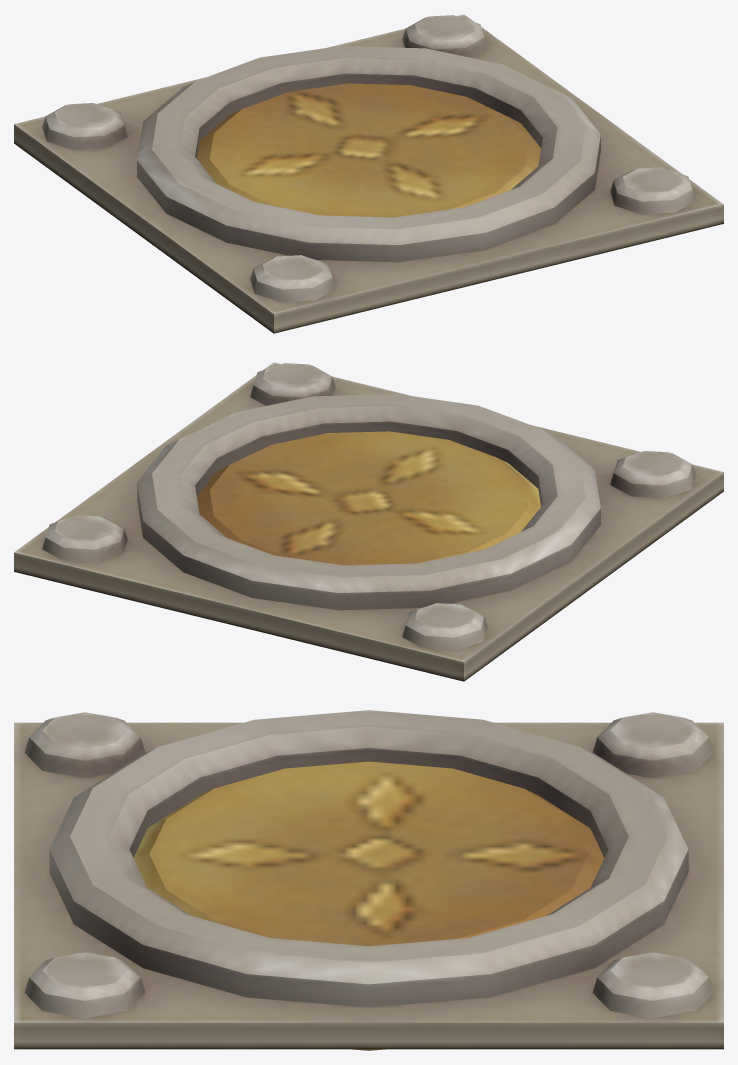
File: Floor Sswitch Yellow.fbx
3 views of the same model, one above another, from view 1: azimuth 30°, elevation 25°; view 2: azimuth 150°, elevation 25°; view 3: azimuth 270°, elevation 25° (orthographic). The views are drawn at different scales.
Parts seen in each view (by area): view 1: box, switch1; view 2: box, switch1; view 3: box, switch1.
Part boxes in pixels (x1,y1,x2,y2): box: (14, 14, 723, 333); switch1: (197, 83, 540, 217); box: (14, 362, 723, 681); switch1: (197, 431, 540, 565); box: (14, 710, 723, 1049); switch1: (133, 761, 604, 1050).
Bounding box in the file's own units: 1 × 0.1759 × 1.
